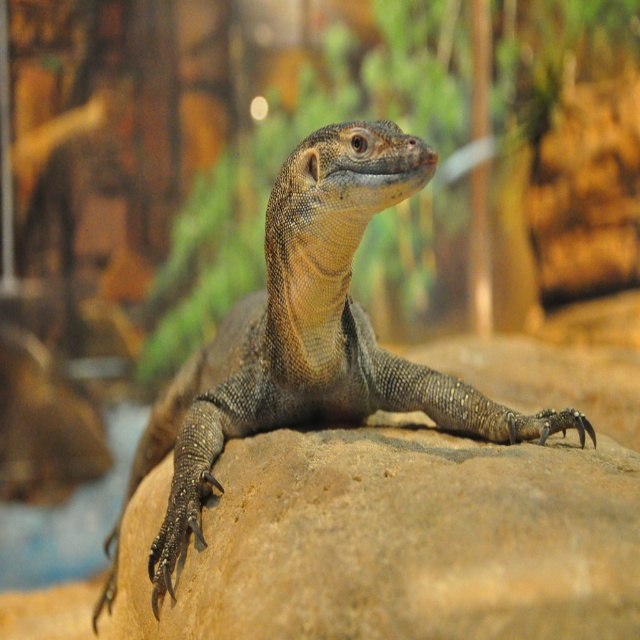Lizard: (97, 123, 582, 623)
